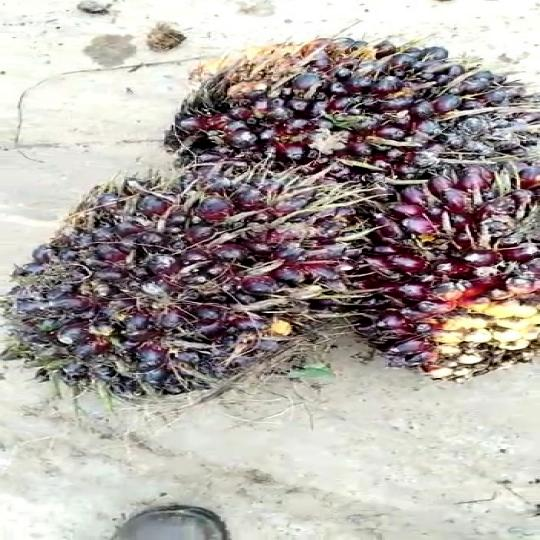kurang masak: (0, 167, 360, 415), (148, 26, 540, 183), (332, 161, 540, 370)
